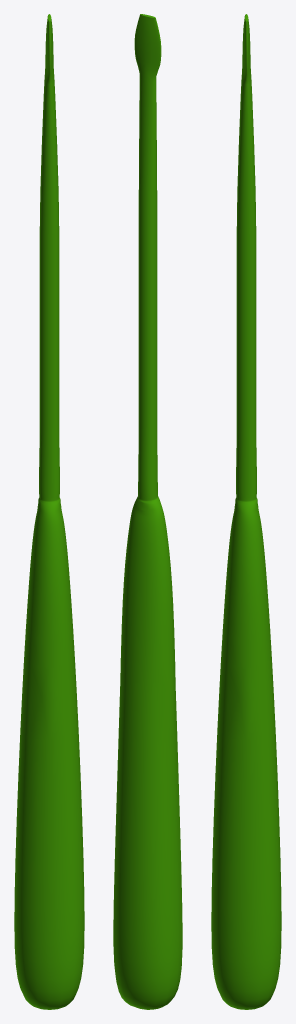
The picture shows the model from 3 angles, left to right: view 1: azimuth 90°, elevation 25°; view 2: azimuth 150°, elevation 25°; view 3: azimuth 270°, elevation 25°; orthographic projection.
Parts seen in each view (by area): view 1: ScrewDriver; view 2: ScrewDriver; view 3: ScrewDriver.
Boxes of the visible parts, box(x1,y1,x2,y2) form: ScrewDriver: box(14, 14, 84, 1009); ScrewDriver: box(113, 14, 182, 1009); ScrewDriver: box(211, 14, 281, 1009).
Size of the model in its own units: 0.9327 by 14.79 by 0.9531.
